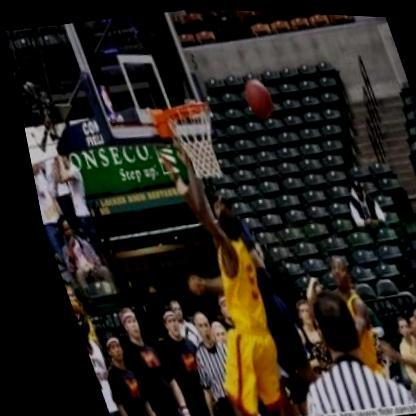basketball: (232, 71, 279, 120)
